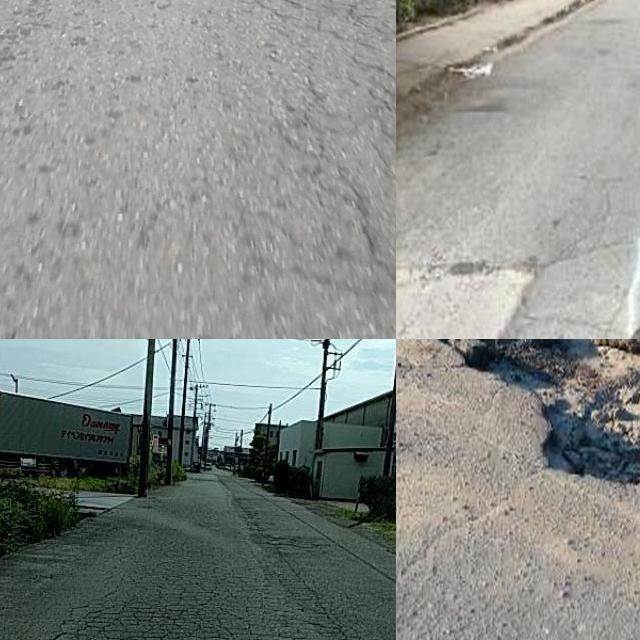Lubang: (437, 339, 640, 487)
Retak Buaya: (60, 560, 297, 640)
